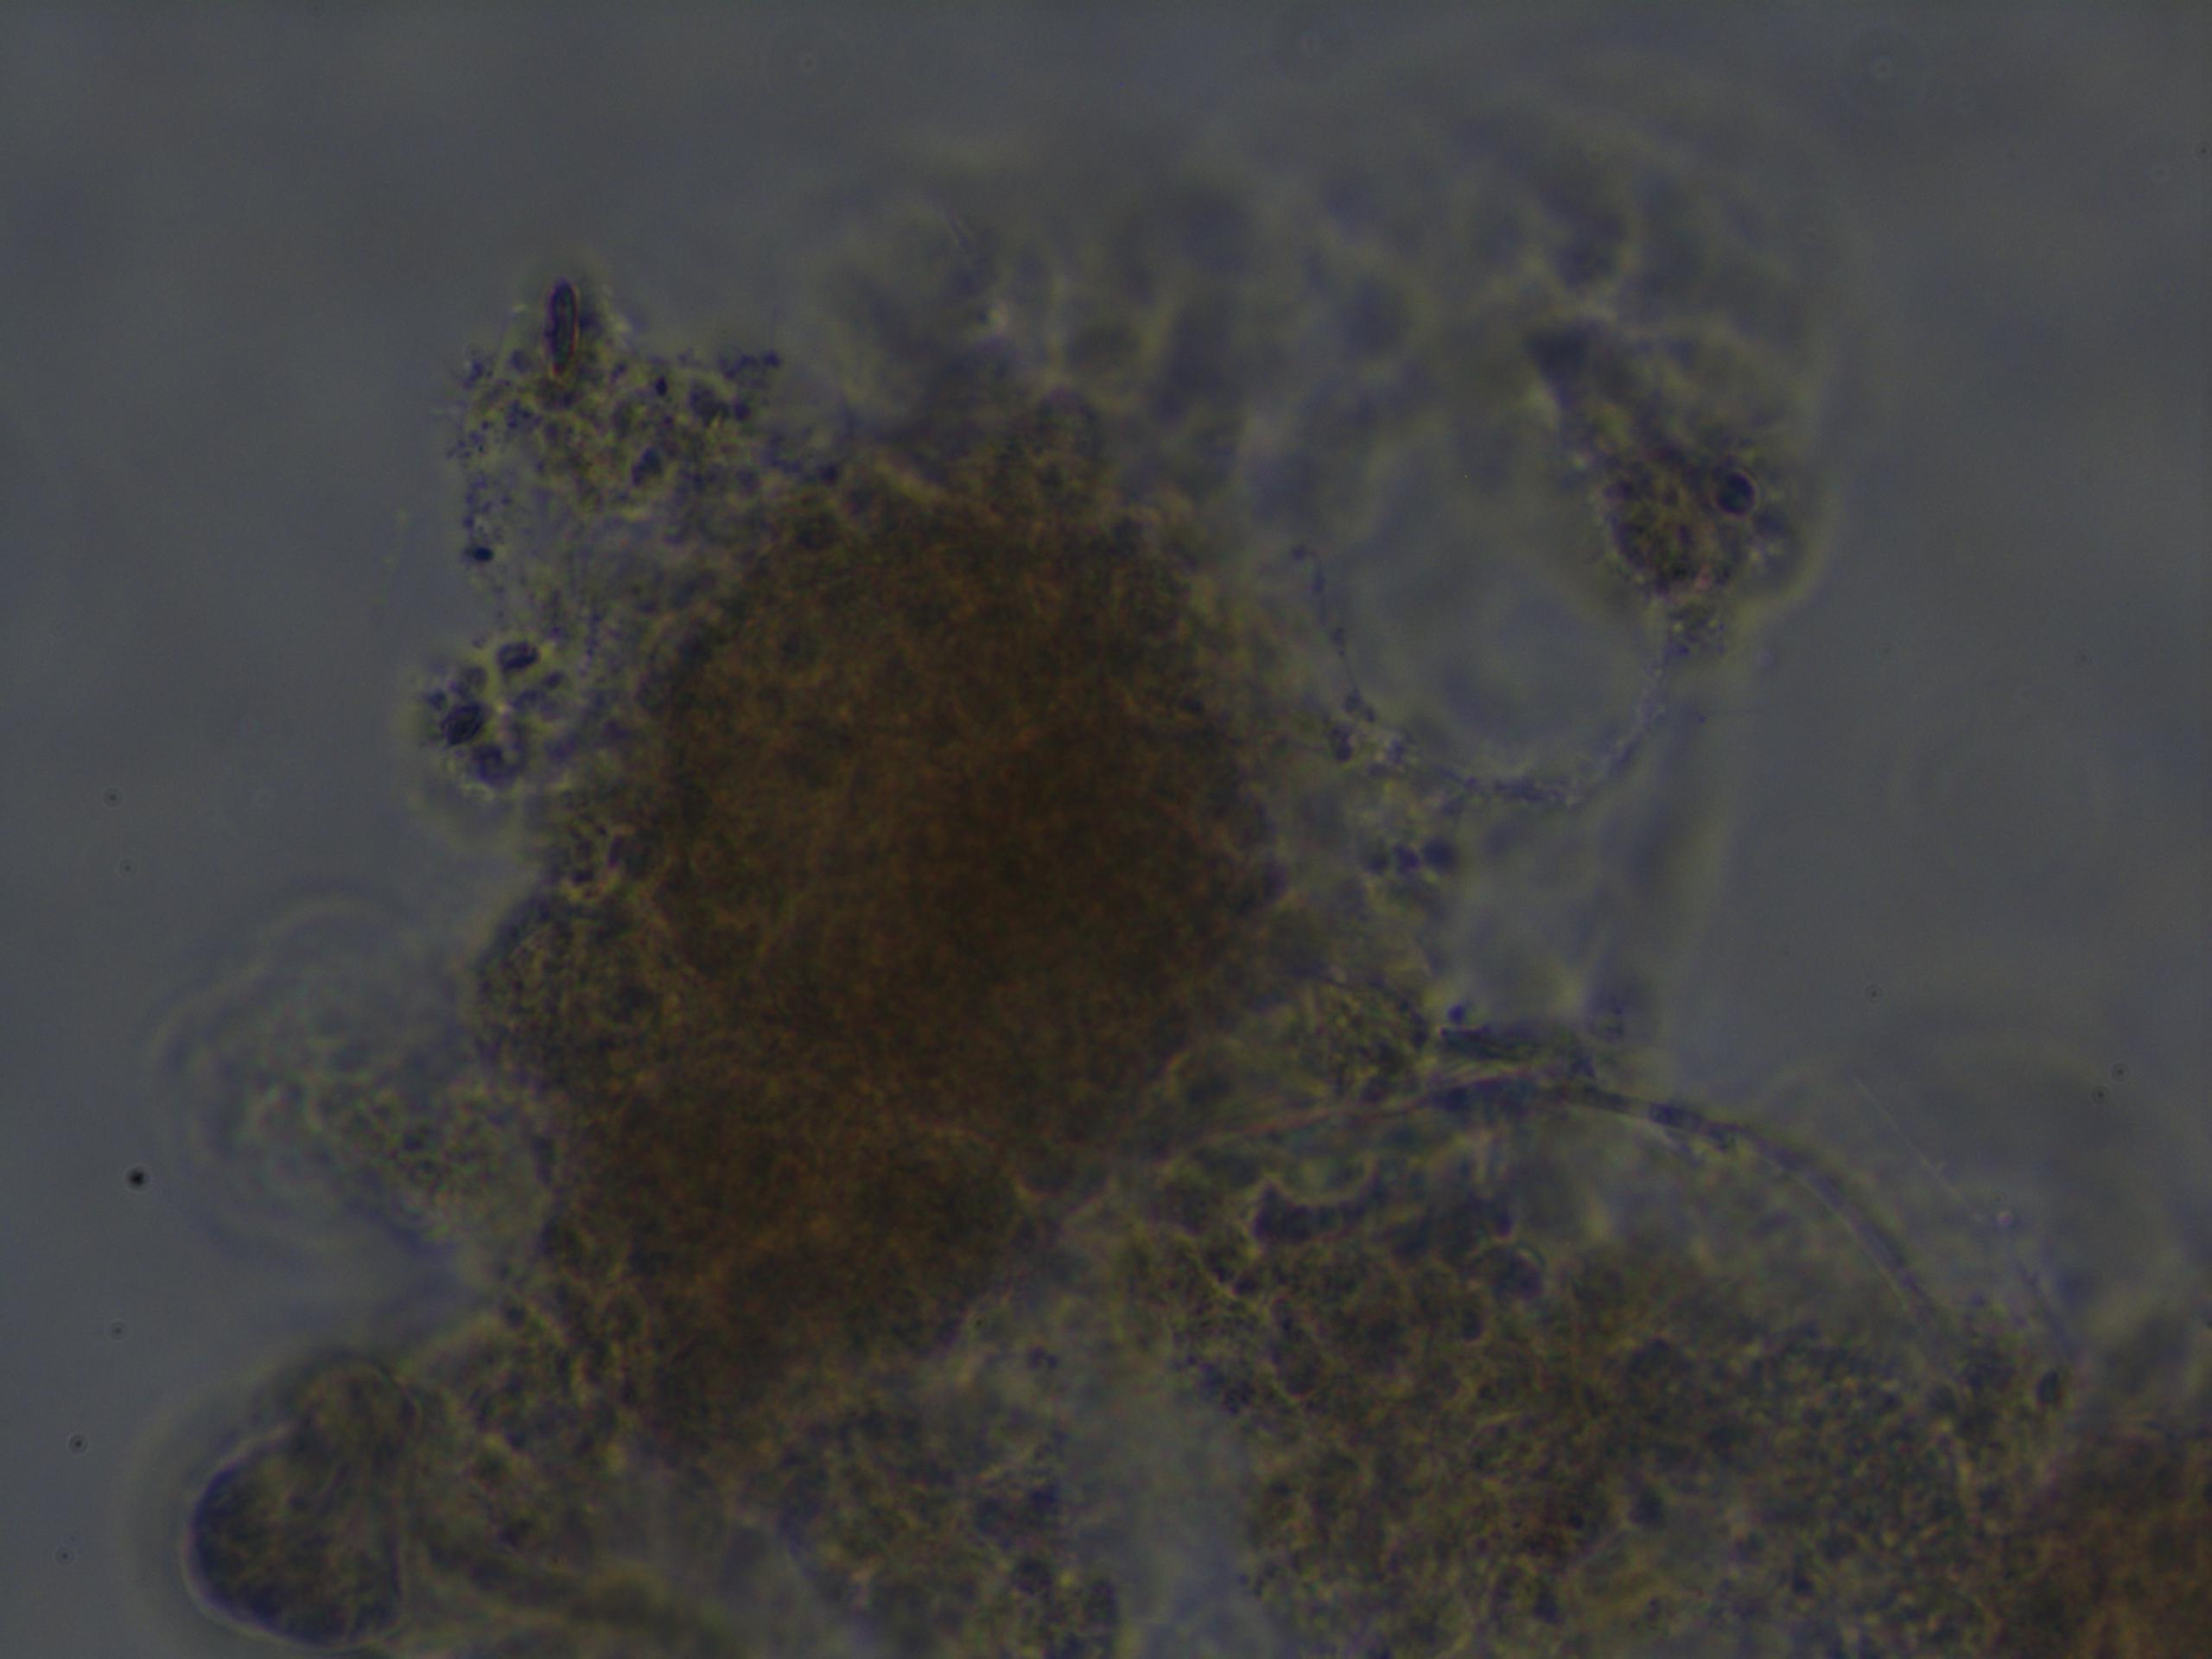filament: (1198, 1063, 1958, 1370), (1294, 547, 1709, 824)
